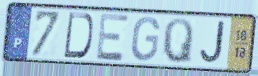7: (32, 8, 64, 59)
D: (62, 11, 95, 60)
E: (95, 12, 131, 63)
G: (130, 16, 162, 63)
J: (198, 20, 226, 66)
Q: (161, 17, 195, 66)
